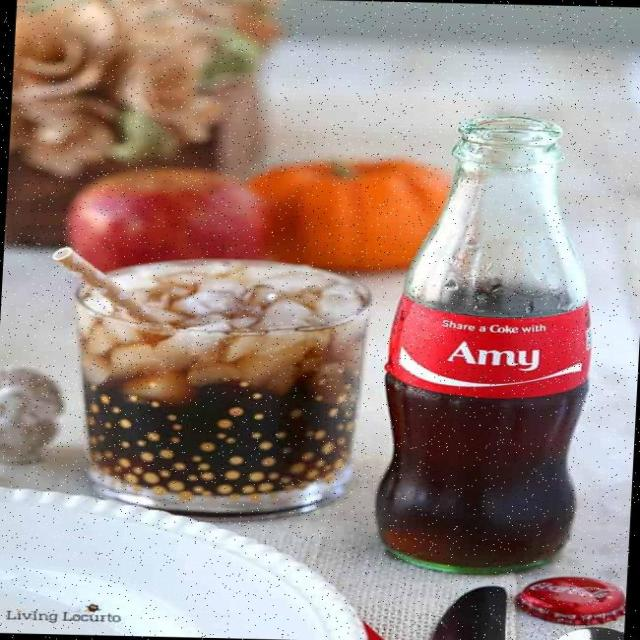coca-cola: (358, 110, 604, 577)
